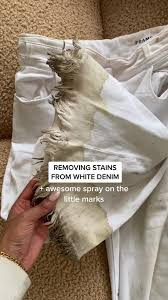earth: (51, 70, 104, 124), (61, 210, 103, 244), (48, 133, 85, 159)
